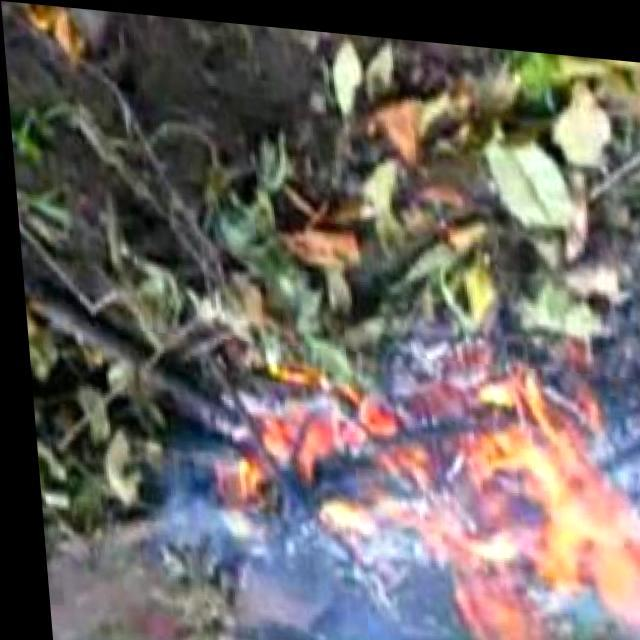fire: (202, 346, 640, 640)
